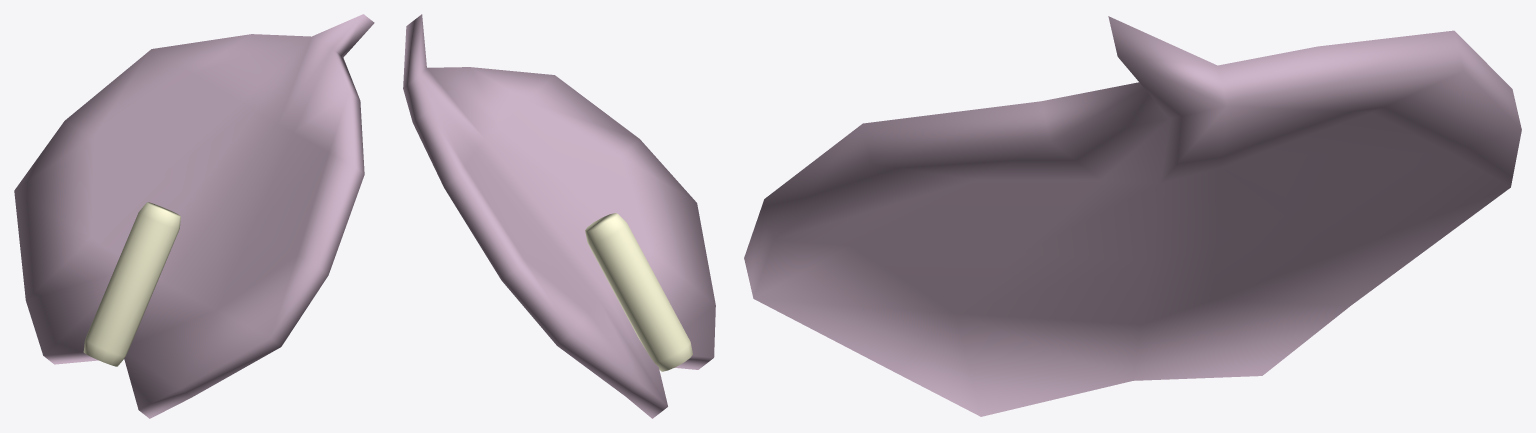
3 renders of one model, left to right at view 1: azimuth 30°, elevation 25°; view 2: azimuth 150°, elevation 25°; view 3: azimuth 270°, elevation 25°, orthographic. The views are drawn at different scales.
Parts seen in each view (by area): view 1: 圆环, 柱体; view 2: 圆环, 柱体; view 3: 圆环.
Boxes of the visible parts, <box> form: 圆环: <box>14,14,374,418</box>; 柱体: <box>83,202,180,366</box>; 圆环: <box>403,14,715,418</box>; 柱体: <box>585,213,692,371</box>; 圆环: <box>744,16,1521,416</box>.
Size of the model in its own units: 1.79 by 1.84 by 2.03.
